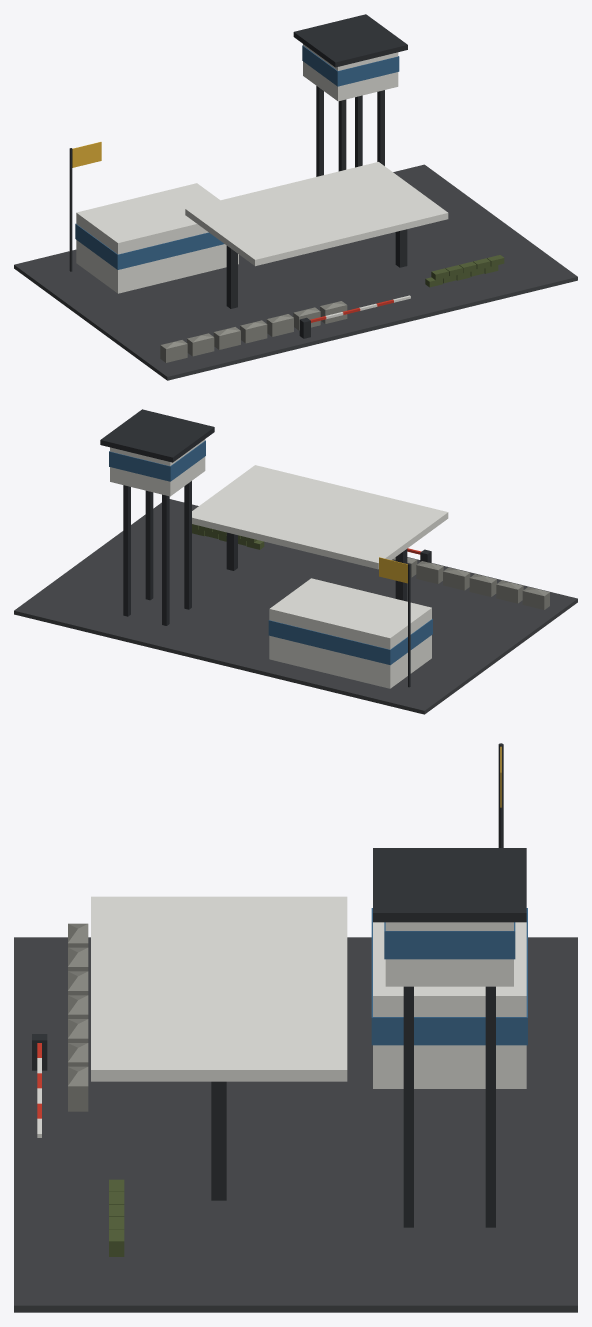
The model's file is post.glb.
The picture shows the model from 3 angles, top to bottom: view 1: azimuth 30°, elevation 25°; view 2: azimuth 150°, elevation 25°; view 3: azimuth 270°, elevation 25°; orthographic projection. The views are drawn at different scales.
Parts seen in each view (by area): view 1: Post; view 2: Post; view 3: Post.
Part boxes in pixels (x1,y1,x2,y2): Post: [14, 14, 577, 380]; Post: [14, 409, 577, 714]; Post: [14, 743, 577, 1312].
Size of the model in its own units: 34 by 14.4 by 22.
